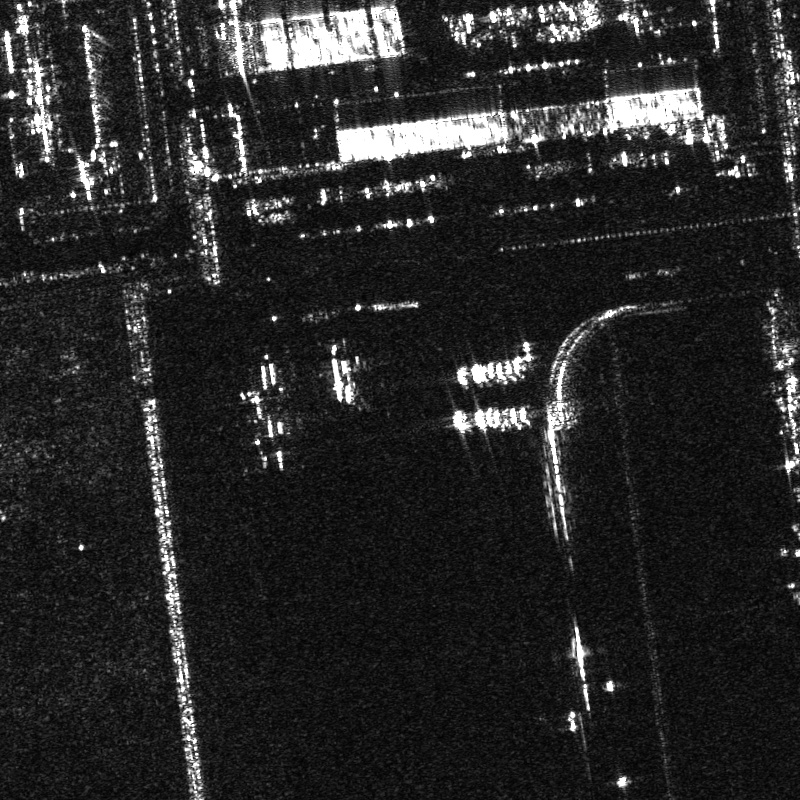Boeing787: (314, 342, 373, 405)
other: (218, 377, 295, 471)
